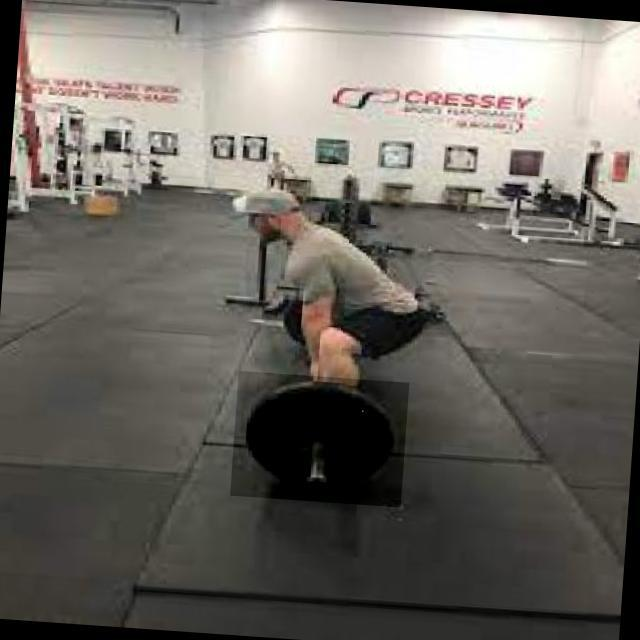barbell: (231, 371, 410, 508)
